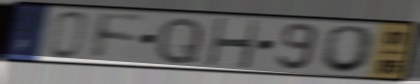0: (45, 9, 93, 61)
9: (275, 22, 319, 72)
F: (91, 11, 147, 62)
H: (205, 17, 261, 71)
O: (317, 24, 379, 74)
Q: (153, 15, 206, 67)
